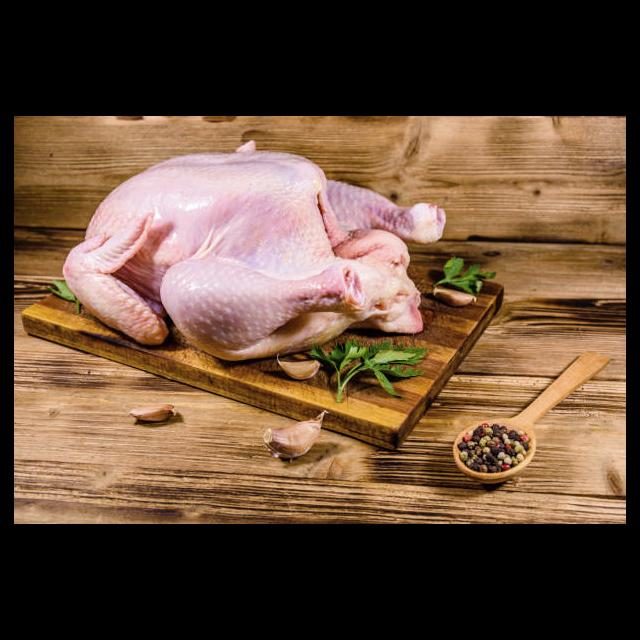chicken: (60, 141, 448, 369)
